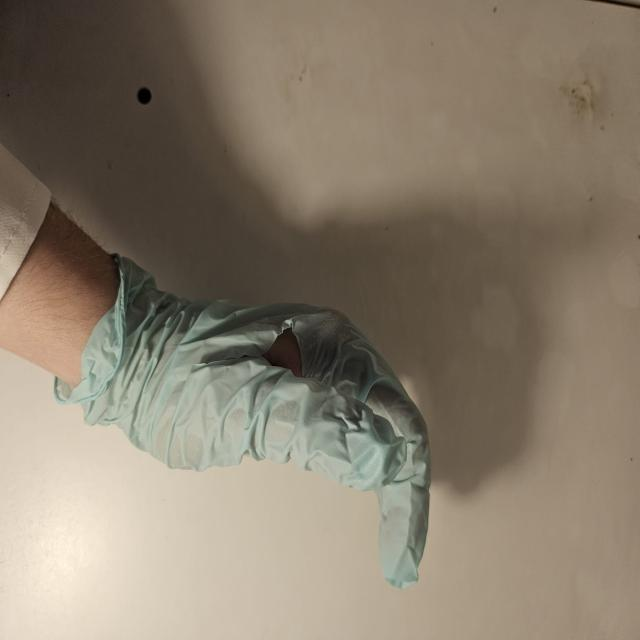gloves_damaged: (52, 240, 445, 595)
